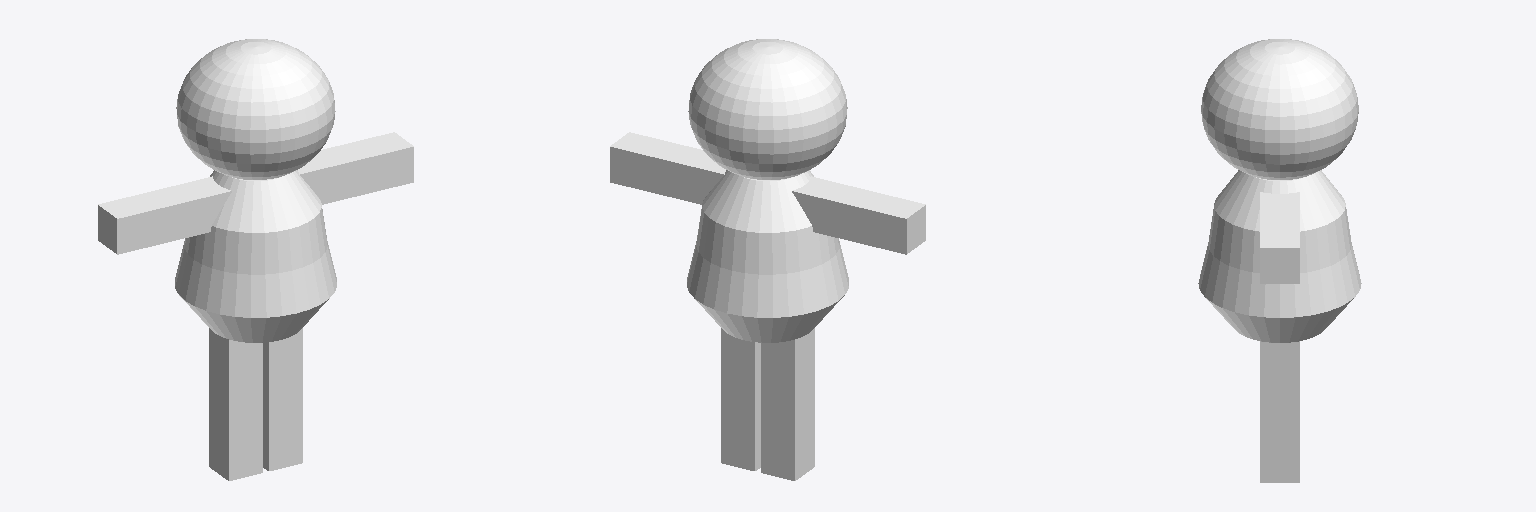
The model's file is fatman.obj.
3 renders of one model, left to right at view 1: azimuth 30°, elevation 25°; view 2: azimuth 150°, elevation 25°; view 3: azimuth 270°, elevation 25°, orthographic.
Visible parts, largest first — view 1: 立方体.001; view 2: 立方体.001; view 3: 立方体.001.
Part boxes in pixels (x1,y1,x2,y2): 立方体.001: (98, 39, 413, 480); 立方体.001: (610, 39, 925, 480); 立方体.001: (1198, 39, 1361, 482).
Bounding box in the file's own units: 5.2 × 7 × 2.48.